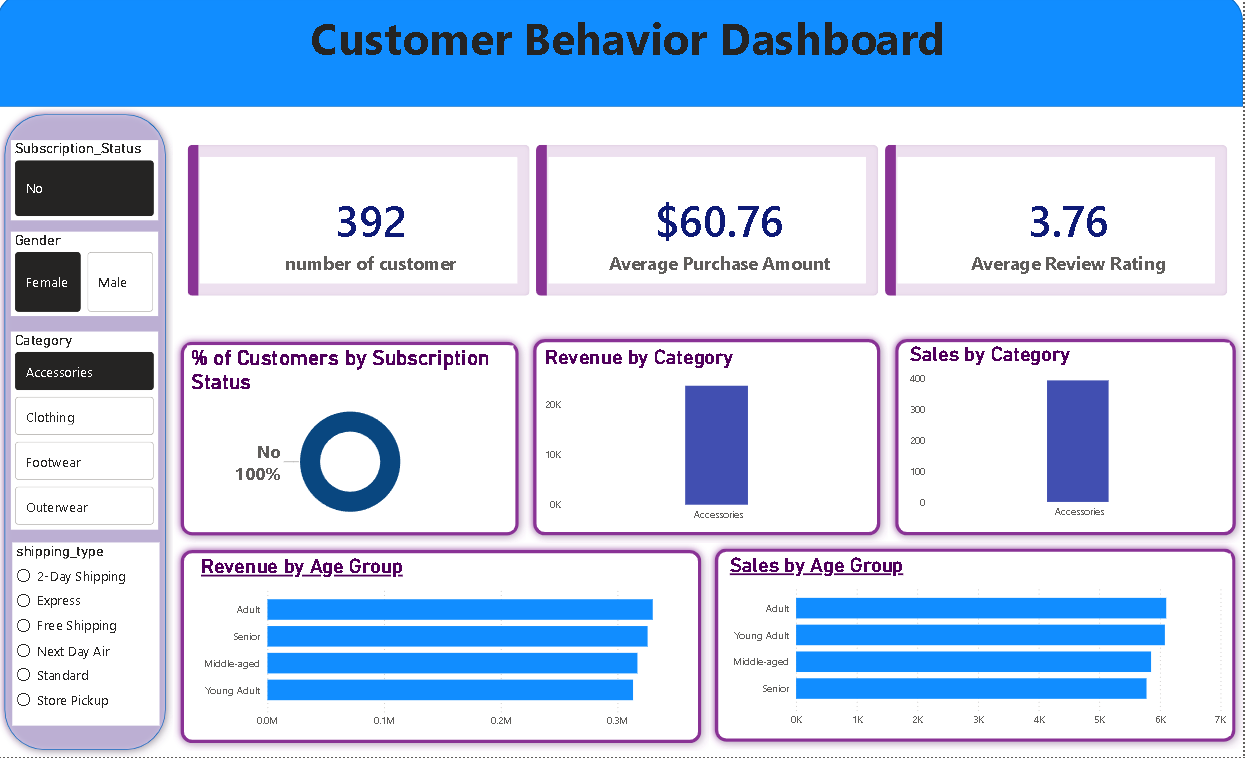

What the dashboard file says about the page in this screenshot:
{"tool":"powerbi","page":{"name":"Page 1","canvas":[1500,920],"ordinal":0},"visuals":[{"type":"cardVisual","fields":{"Data":["public customer.number of customer","public customer.Average Purchase Amount","public customer.Average Review Rating"]},"box":[211.7,165.9,1288.9,216.4],"z":0},{"type":"shape","box":[0,0,1499.9,137],"z":1},{"type":"textbox","box":[228.8,11.7,1060.6,108.6],"z":2},{"type":"shape","box":[211.7,410.7,424.9,251.2],"z":3},{"type":"donutChart","title":"% of Customers by Subscription Status","fields":{"Category":["public customer.subscription_status"],"Y":["Sum(public customer.customer_id)"]},"box":[228.8,424.3,392.5,222.2],"z":4},{"type":"shape","box":[636.6,407.5,436,254.3],"z":5},{"type":"shape","box":[1072.5,407.5,428.1,254.3],"z":6},{"type":"clusteredColumnChart","title":"Revenue by Category","fields":{"Y":["Sum(public customer.purchase_amount_(usd))"],"Category":["public customer.category"]},"box":[655.5,424.9,398.1,222.7],"z":7},{"type":"clusteredColumnChart","title":"Sales by Category","fields":{"Y":["CountNonNull(public customer.customer_id)"],"Category":["public customer.category"]},"box":[1094.6,421.7,390.2,222.7],"z":8},{"type":"shape","box":[0,137,212.1,783.4],"z":9},{"type":"advancedSlicerVisual","fields":{"Values":["public customer.subscription_status"]},"box":[16.7,177.1,177.1,96.9],"z":10},{"type":"advancedSlicerVisual","fields":{"Values":["public customer.gender"]},"box":[16.7,287.3,177.1,101.9],"z":11},{"type":"advancedSlicerVisual","fields":{"Values":["public customer.category"]},"box":[16.7,407.6,177.1,238.9],"z":12},{"type":"listSlicer","fields":{"Values":["public customer.shipping_type"]},"box":[18.4,661.4,177.1,220.5],"z":13},{"type":"clusteredBarChart","fields":{"Y":["Sum(public customer.purchase_amount_(usd))"],"Category":["public customer.age_group"]},"box":[240.5,674.8,380.8,218.8],"z":14},{"type":"shape","box":[212.1,661.4,644.7,250.5],"z":15},{"type":"clusteredBarChart","title":"Revenue by Age Group","fields":{"Y":["Sum(public customer.customer_id)"],"Category":["public customer.age_group"]},"box":[240.5,676.5,594.6,218.8],"z":16},{"type":"shape","box":[855.2,659.8,644.7,250.5],"z":17},{"type":"clusteredBarChart","title":"Sales by Age Group","fields":{"Y":["Sum(public customer.purchase_amount_(usd))"],"Category":["public customer.age_group"]},"box":[876.9,674.8,608,218.8],"z":18}]}

Visuals, with their boxes in screenshot pixels (x1, y1, x2, y2), scaled from the page's 1500x920 canvas onto the 1248x758 screenshot:
cardVisual - public customer.number of customer x public customer.Average Purchase Amount: 176/137/1247/315
shape: 0/0/1247/113
textbox: 190/10/1073/99
shape: 176/338/530/545
"% of Customers by Subscription Status" donutChart: 190/350/517/533
shape: 530/336/892/545
shape: 892/336/1247/545
"Revenue by Category" clusteredColumnChart: 545/350/877/534
"Sales by Category" clusteredColumnChart: 911/347/1235/531
shape: 0/113/176/757
advancedSlicerVisual - public customer.subscription_status: 14/146/161/226
advancedSlicerVisual - public customer.gender: 14/237/161/321
advancedSlicerVisual - public customer.category: 14/336/161/533
listSlicer - public customer.shipping_type: 15/545/163/727
clusteredBarChart - Sum(public customer.purchase_amount_(usd)) x public customer.age_group: 200/556/517/736
shape: 176/545/713/751
"Revenue by Age Group" clusteredBarChart: 200/557/695/738
shape: 712/544/1247/750
"Sales by Age Group" clusteredBarChart: 730/556/1235/736
